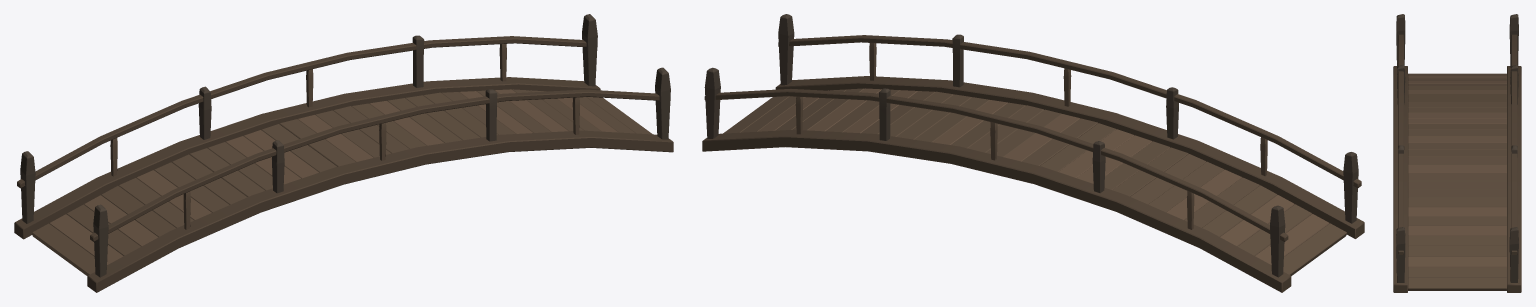
Rendered from bridge_03.glb.
3 views of the same model, side by side, from view 1: azimuth 30°, elevation 25°; view 2: azimuth 150°, elevation 25°; view 3: azimuth 270°, elevation 25° (orthographic). The views are drawn at different scales.
Visible parts, largest first — view 1: bridge_03; view 2: bridge_03; view 3: bridge_03.
Boxes of the visible parts, box(x1,y1,x2,y2) form: bridge_03: box(14, 14, 673, 292); bridge_03: box(702, 14, 1364, 292); bridge_03: box(1393, 14, 1521, 292).
Size of the model in its own units: 11.3 by 1.92 by 2.8.
1 material, 1 textured.
